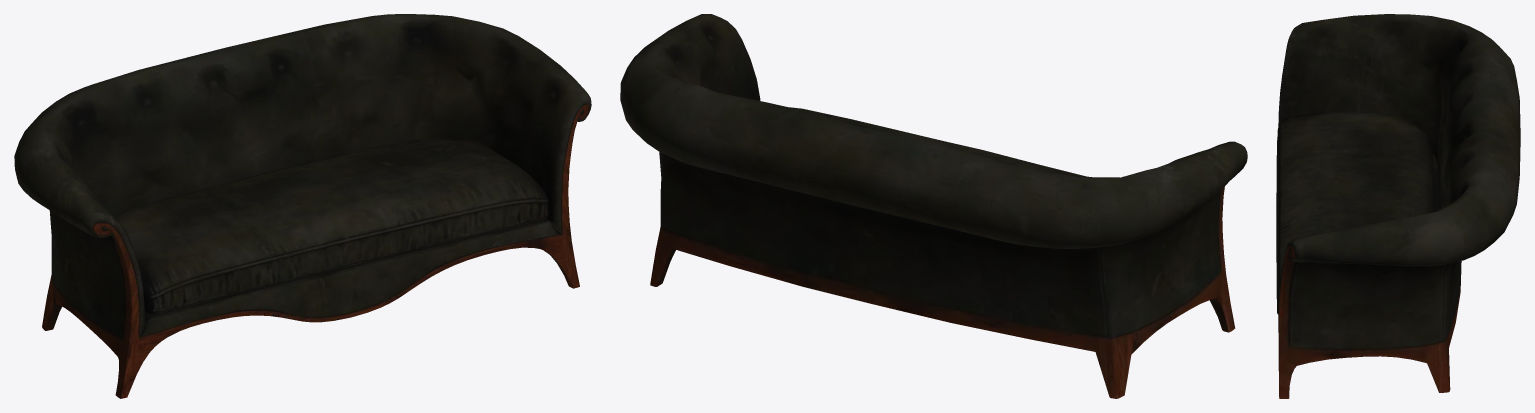
The model's file is sofa_02.glb.
The picture shows the model from 3 angles, left to right: view 1: azimuth 30°, elevation 25°; view 2: azimuth 150°, elevation 25°; view 3: azimuth 270°, elevation 25°; orthographic projection. The views are drawn at different scales.
Visible parts, largest first — view 1: sofa_02_Base; view 2: sofa_02_Base; view 3: sofa_02_Base.
Part boxes in pixels (x1,y1,x2,y2): sofa_02_Base: (14,14,591,398); sofa_02_Base: (620,14,1247,398); sofa_02_Base: (1276,14,1520,398).
Size of the model in its own units: 1.81 by 0.7095 by 0.8176.
Materials: 1 (1 with a texture image).
